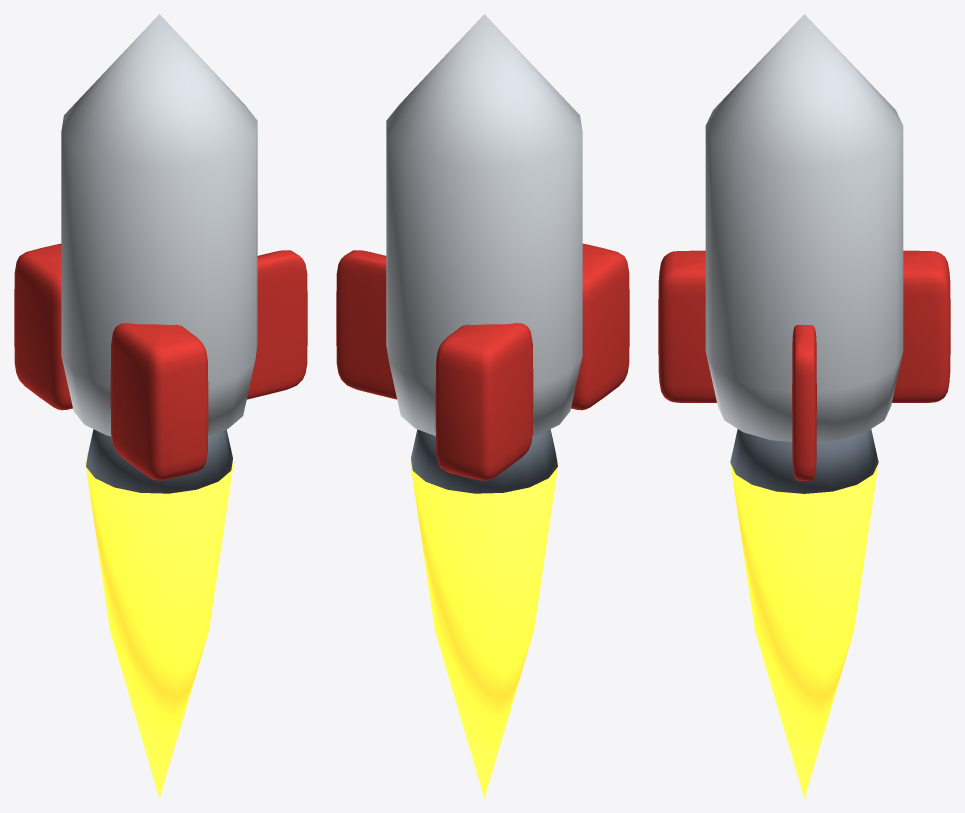
File: rocket_shoe.glb
3 renders of one model, left to right at view 1: azimuth 30°, elevation 25°; view 2: azimuth 150°, elevation 25°; view 3: azimuth 270°, elevation 25°, orthographic.
Visible parts, largest first — view 1: Body, Flame; view 2: Body, Flame; view 3: Body, Flame.
Part boxes in pixels (x1,y1,x2,y2): Body: [14, 14, 307, 493]; Flame: [85, 460, 233, 798]; Body: [336, 14, 629, 493]; Flame: [410, 460, 558, 798]; Body: [658, 14, 950, 493]; Flame: [730, 463, 878, 798].
Bounding box in the file's own units: 0.215 × 0.7 × 0.2365.
